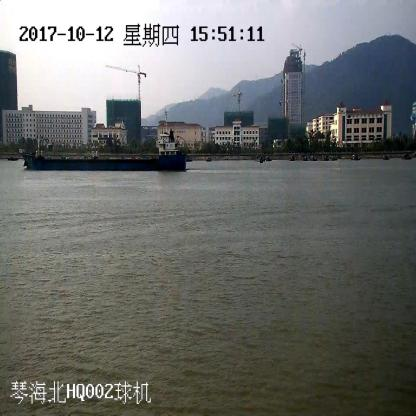Bulk Carrier: (19, 131, 189, 172)
